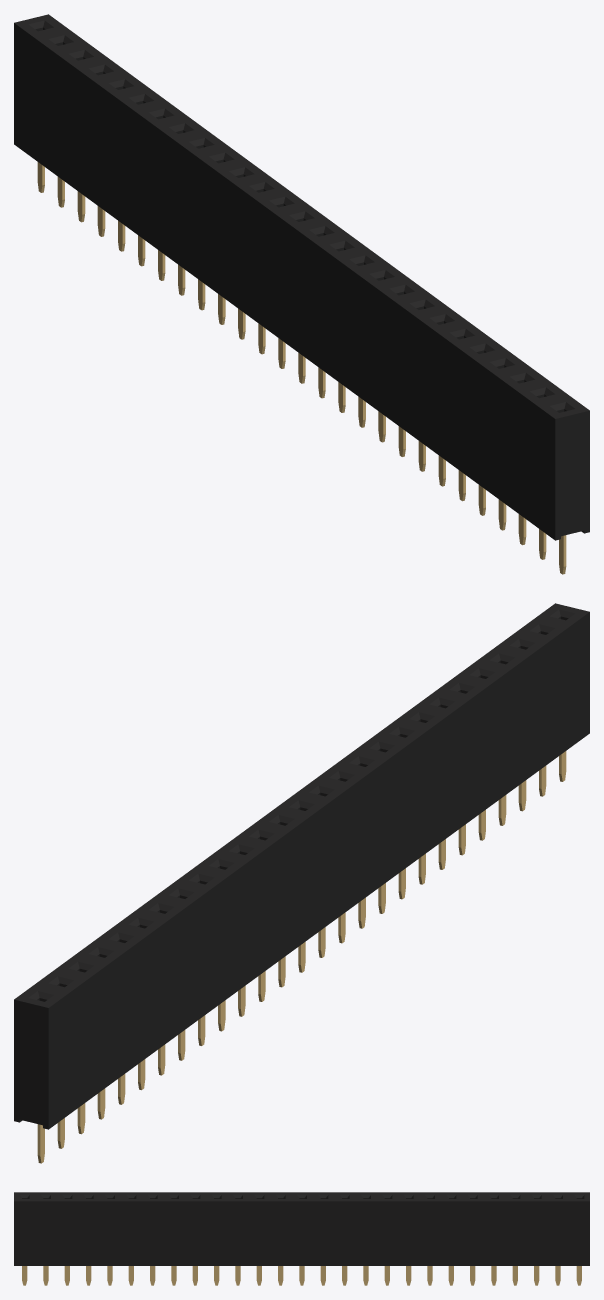
Rendered from kc-pinsocket_1x27_p2.54mm_vertical.glb.
3 views of the same model, one above another, from view 1: azimuth 30°, elevation 25°; view 2: azimuth 150°, elevation 25°; view 3: azimuth 270°, elevation 25° (orthographic). The views are drawn at different scales.
Visible parts, largest first — view 1: 0_0_0_0, 0.75_0.5_0.25_0.9; view 2: 0_0_0_0, 0.75_0.5_0.25_0.9; view 3: 0_0_0_0, 0.75_0.5_0.25_0.9.
Boxes of the visible parts, x1=… form: 0_0_0_0: x1=14, y1=14, x2=589, y2=540; 0.75_0.5_0.25_0.9: x1=37, y1=162, x2=566, y2=574; 0_0_0_0: x1=14, y1=603, x2=589, y2=1129; 0.75_0.5_0.25_0.9: x1=37, y1=751, x2=566, y2=1163; 0_0_0_0: x1=14, y1=1192, x2=589, y2=1265; 0.75_0.5_0.25_0.9: x1=22, y1=1266, x2=581, y2=1285.
Size of the model in its own units: 0.2537 by 1.16 by 6.86.
